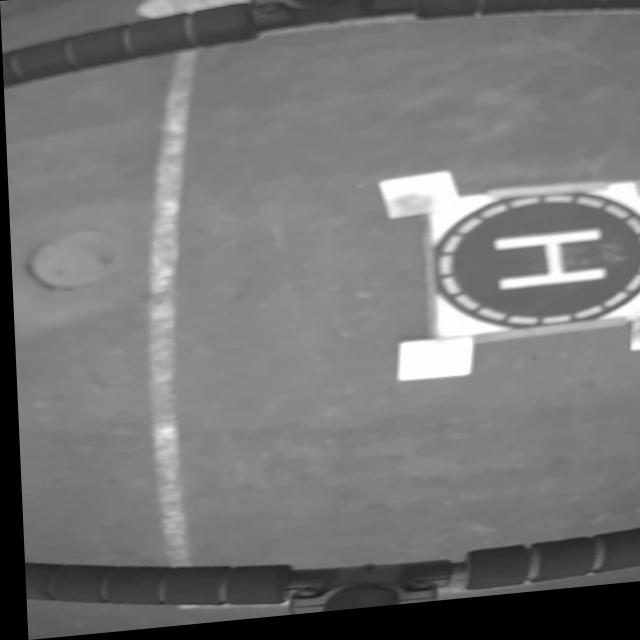Helipad: (491, 239, 602, 300)
